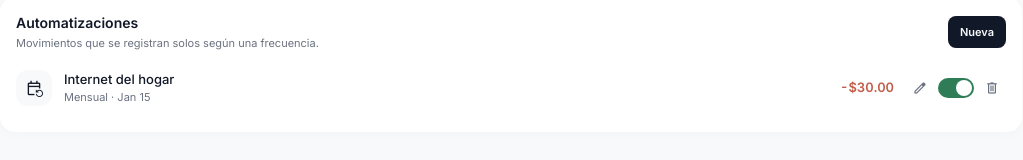
RecurringSection › pausa una automatización correctamente
Step 1. Click the switch named "Pausar" → click(956, 88), box [938, 78, 974, 98]
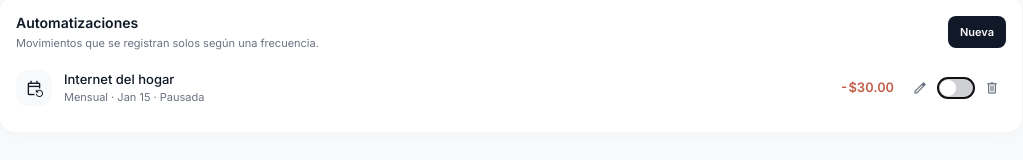
expect the text "Mensual · Jan 15 · Pausada" is shown: met, box [64, 90, 204, 104]
